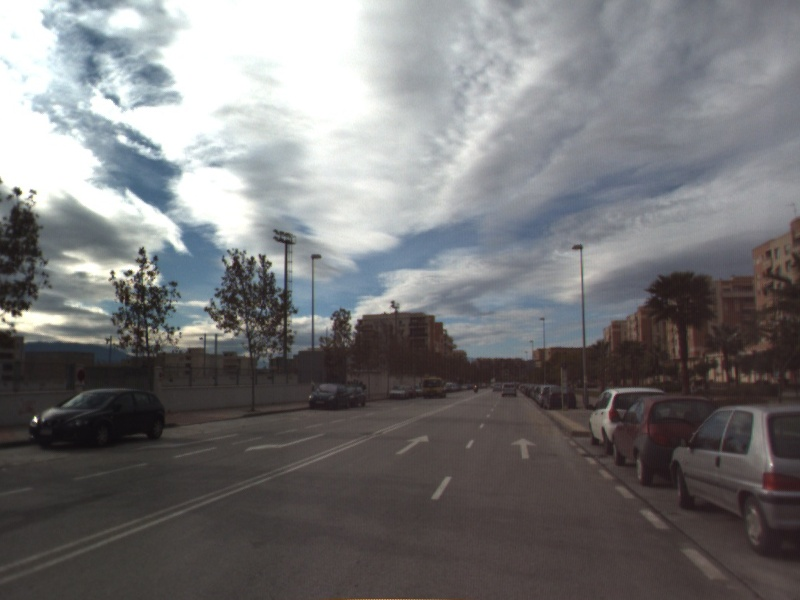STRAIGHT: (394, 433, 431, 456), (509, 436, 539, 461)
